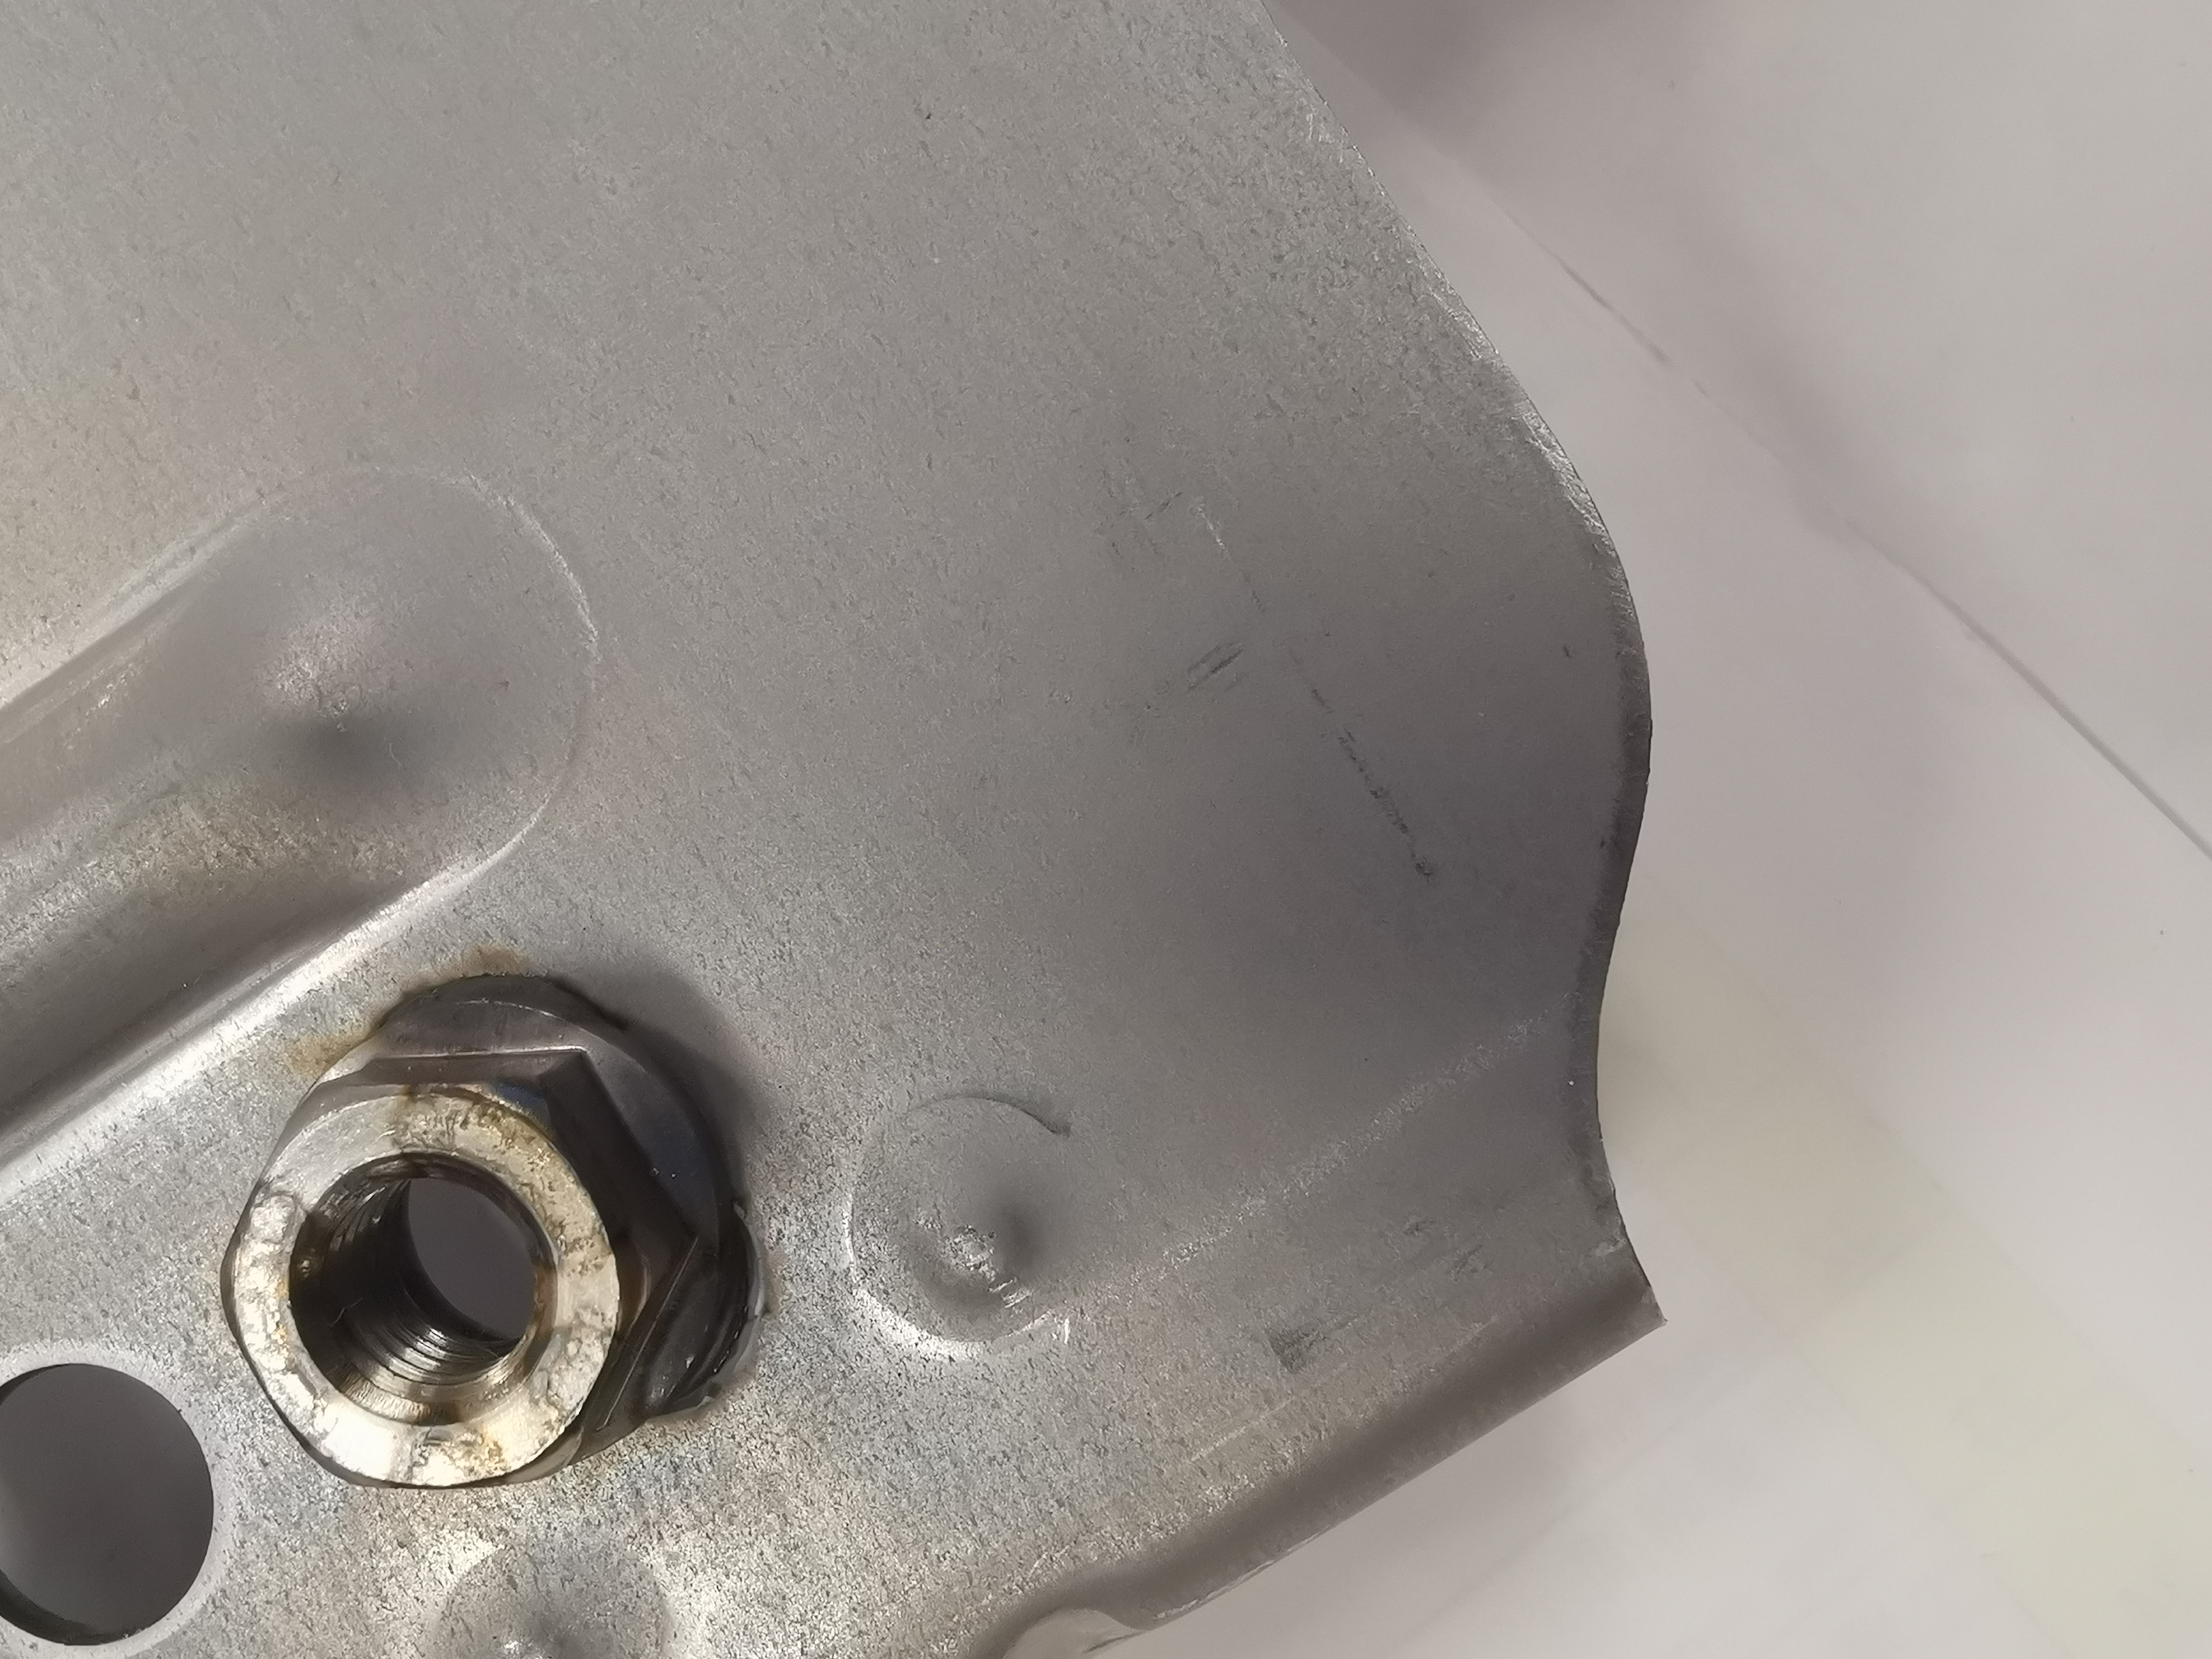dog: (218, 960, 754, 1502)
